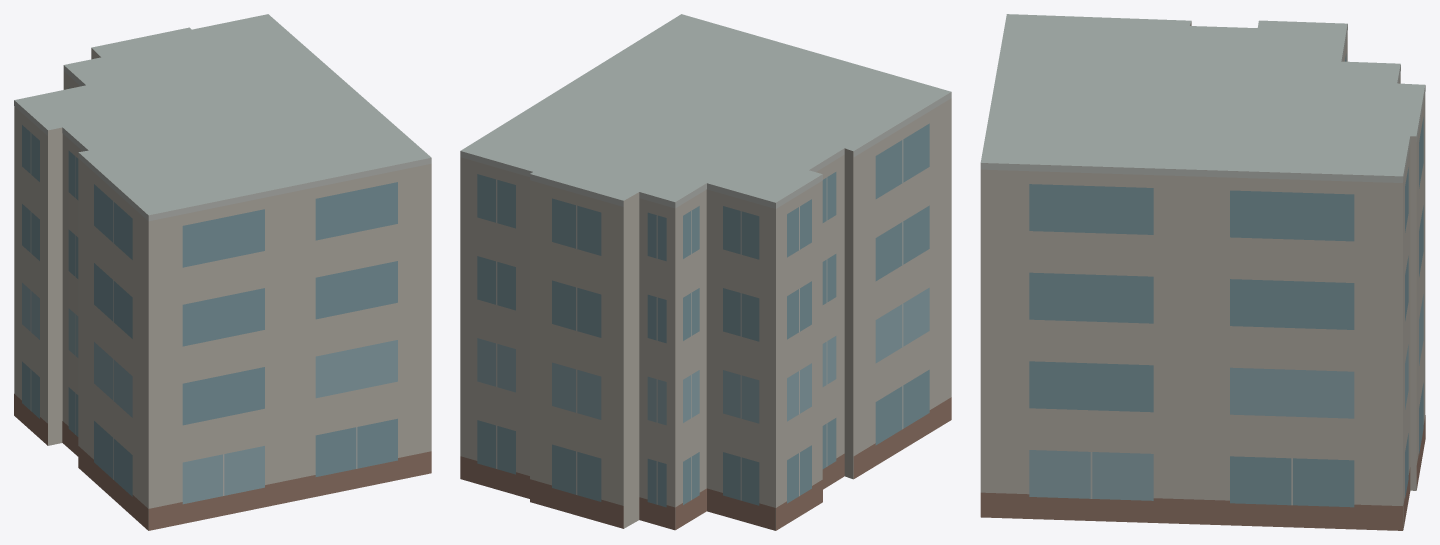
Rendered from survey-upis-32639523.glb.
3 views of the same model, side by side, from view 1: azimuth 30°, elevation 25°; view 2: azimuth 150°, elevation 25°; view 3: azimuth 270°, elevation 25° (orthographic). The views are drawn at different scales.
Parts seen in each view (by area): view 1: survey-upis-32639523.tmp; view 2: survey-upis-32639523.tmp; view 3: survey-upis-32639523.tmp.
Boxes of the visible parts, x1,y1,x2,y2 form: survey-upis-32639523.tmp: [14, 14, 431, 530]; survey-upis-32639523.tmp: [460, 14, 951, 530]; survey-upis-32639523.tmp: [980, 14, 1425, 530].
Bounding box in the file's own units: 12.63 × 12.85 × 14.62.
